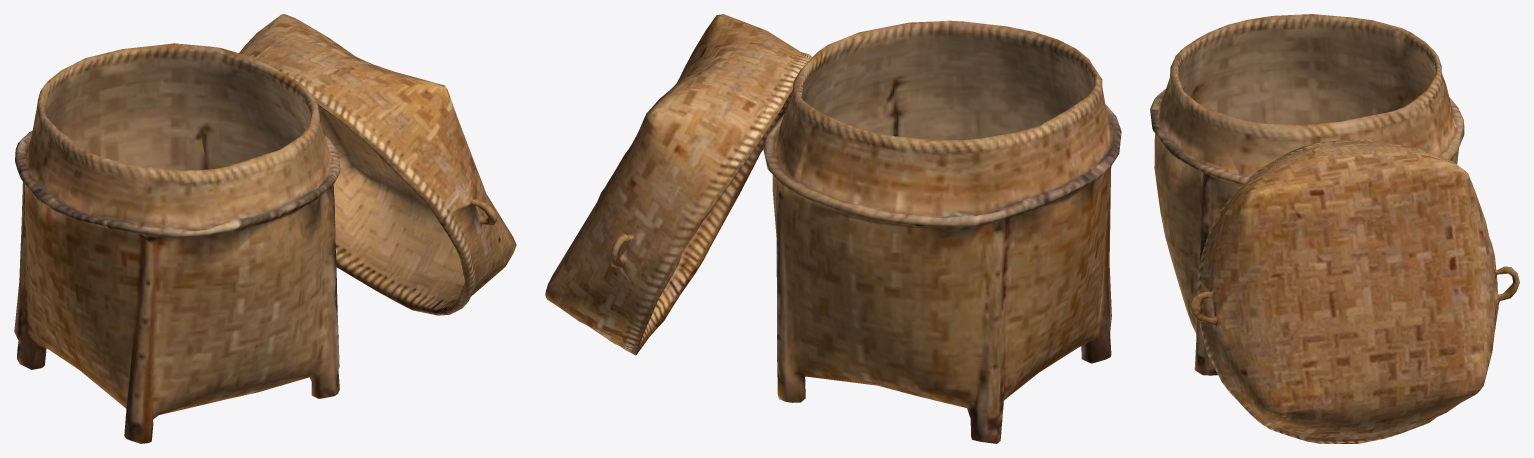
File: hamper.glb
The picture shows the model from 3 angles, left to right: view 1: azimuth 30°, elevation 25°; view 2: azimuth 150°, elevation 25°; view 3: azimuth 270°, elevation 25°; orthographic projection. The views are drawn at different scales.
Visible parts, largest first — view 1: wicker_basket_02_base; view 2: wicker_basket_02_base; view 3: wicker_basket_02_base.
Part boxes in pixels (left/top/right/bottom): wicker_basket_02_base: left=14, top=14, right=516, bottom=443; wicker_basket_02_base: left=545, top=14, right=1121, bottom=443; wicker_basket_02_base: left=1150, top=14, right=1519, bottom=443.
Bounding box in the file's own units: 0.3469 × 0.2004 × 0.2541.
Materials: 1 (1 with a texture image).
